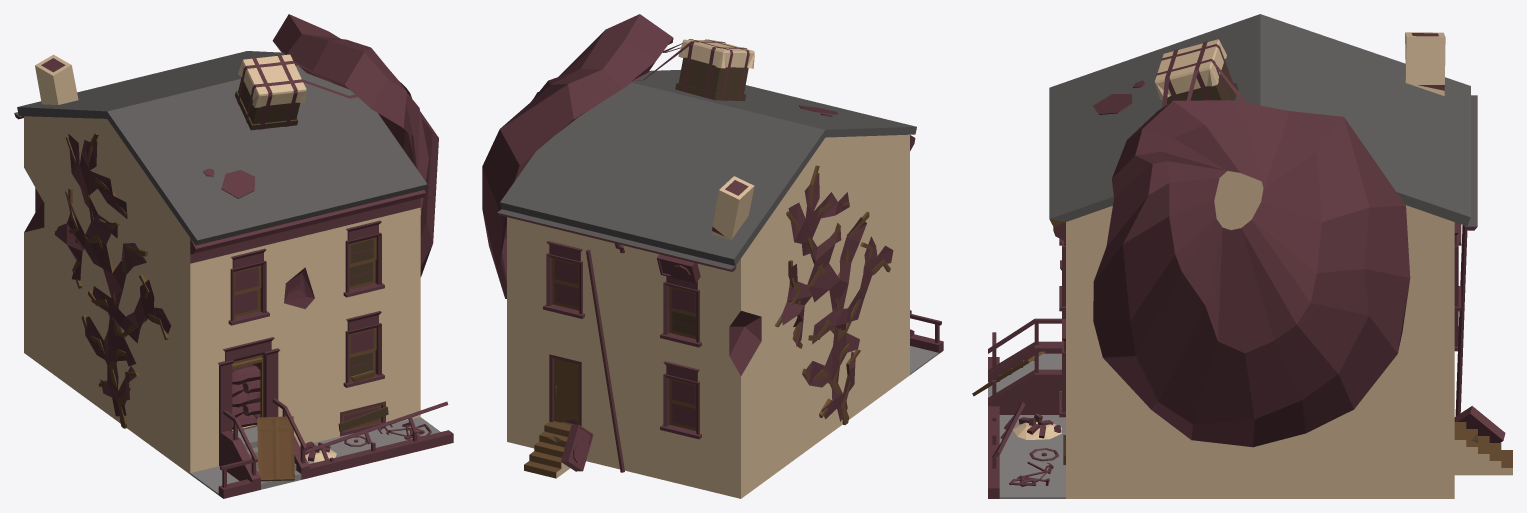
Rendered from building-house-block-big-apocalypse.fbx.
3 views of the same model, side by side, from view 1: azimuth 30°, elevation 25°; view 2: azimuth 150°, elevation 25°; view 3: azimuth 270°, elevation 25° (orthographic). The views are drawn at different scales.
Parts seen in each view (by area): view 1: building-house-block-big-apocalypse-main, building-house-block-big-apocalypse-props-a, building-house-block-big-apocalypse-props-b; view 2: building-house-block-big-apocalypse-main, building-house-block-big-apocalypse-props-a, building-house-block-big-apocalypse-props-b; view 3: building-house-block-big-apocalypse-main, building-house-block-big-apocalypse-props-a, building-house-block-big-apocalypse-props-b.
Part boxes in pixels (<box>): building-house-block-big-apocalypse-main: <box>14,51,453,498</box>; building-house-block-big-apocalypse-props-a: <box>235,14,438,276</box>; building-house-block-big-apocalypse-props-b: <box>54,132,431,462</box>; building-house-block-big-apocalypse-main: <box>497,70,943,498</box>; building-house-block-big-apocalypse-props-a: <box>482,14,754,298</box>; building-house-block-big-apocalypse-props-b: <box>774,165,893,424</box>; building-house-block-big-apocalypse-main: <box>972,14,1512,498</box>; building-house-block-big-apocalypse-props-a: <box>1093,39,1410,447</box>; building-house-block-big-apocalypse-props-b: <box>1009,413,1061,486</box>.
Bounding box in the file's own units: 11.03 × 11.27 × 13.91.
